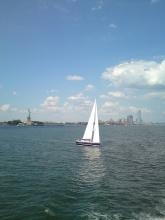fanchuan: (71, 98, 110, 147)
